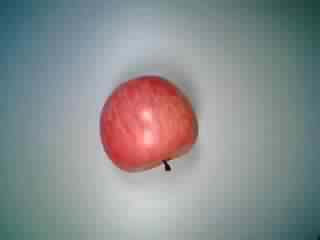apple: (97, 74, 202, 176)
